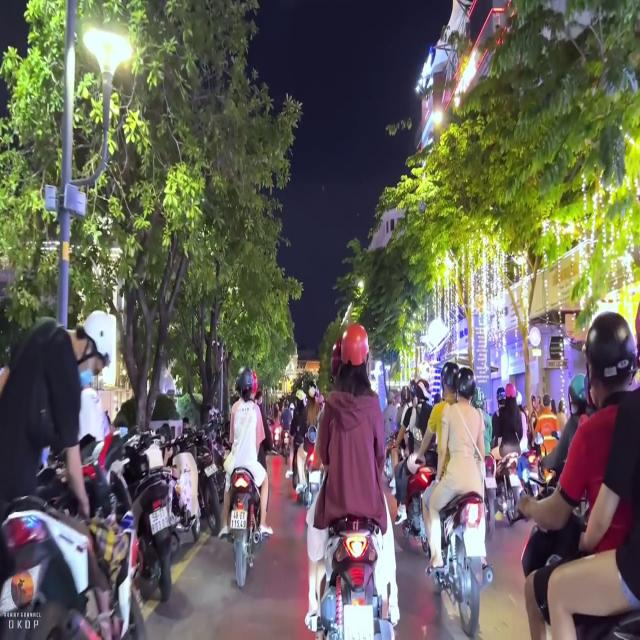bien_trang: (227, 504, 250, 534)
